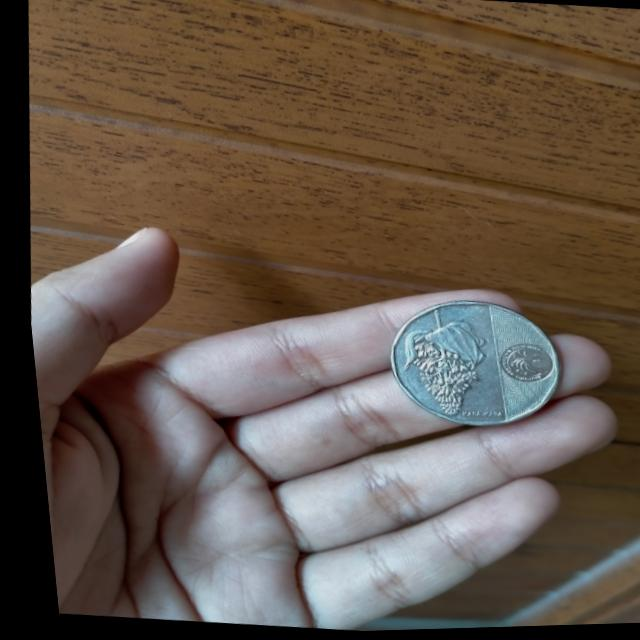10_New_Back: (377, 294, 486, 422)
